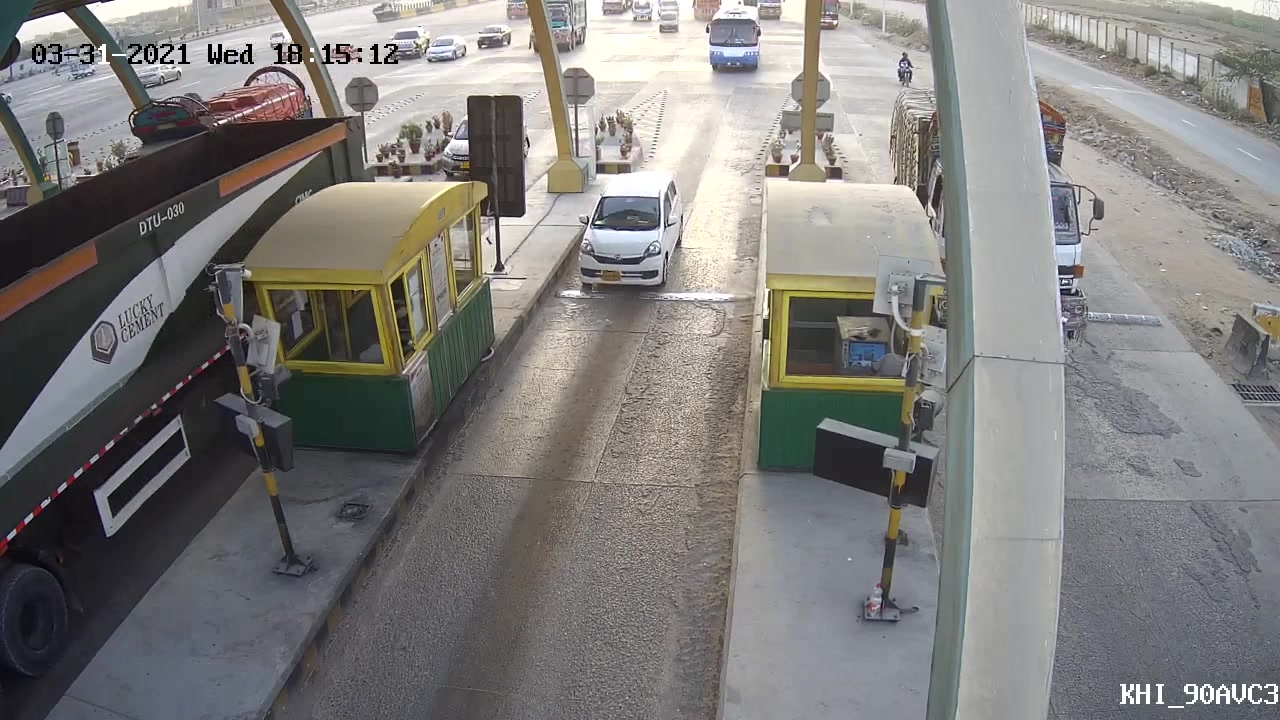F1: (571, 181, 693, 303)
